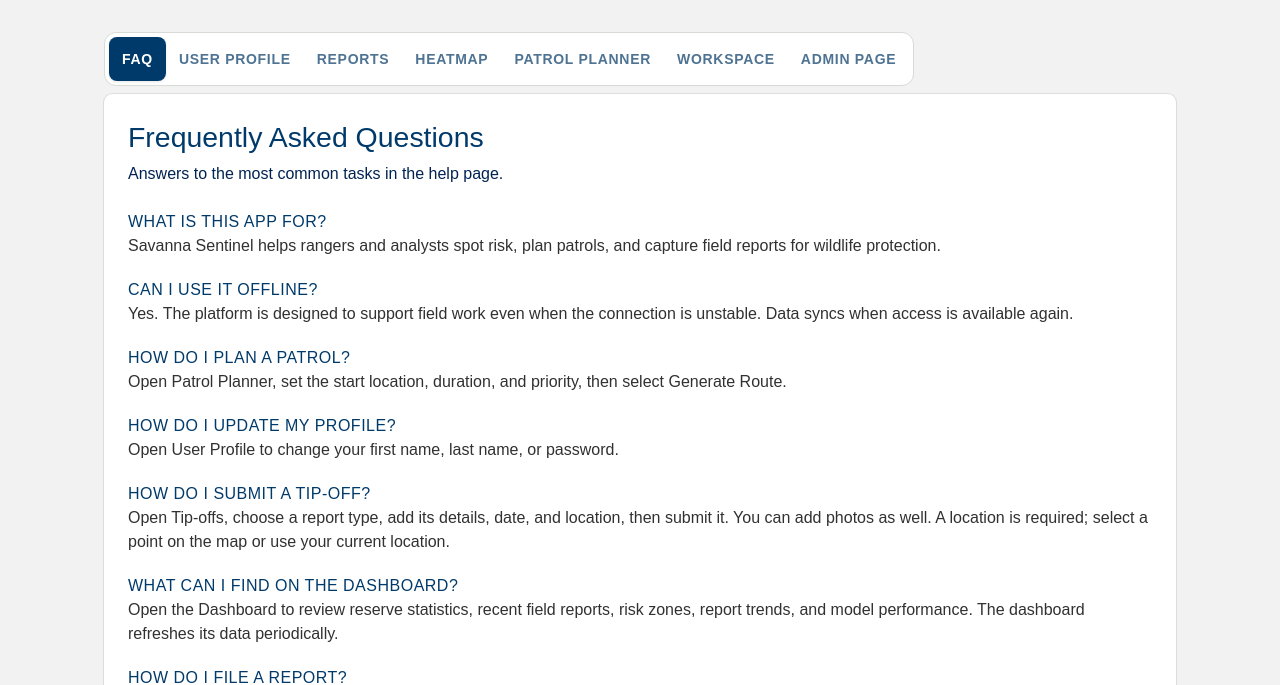
it: HelpPage › opens the relevant help content when tabs are selected
Click the tab "Reports": click(353, 59) [304,37,402,81]
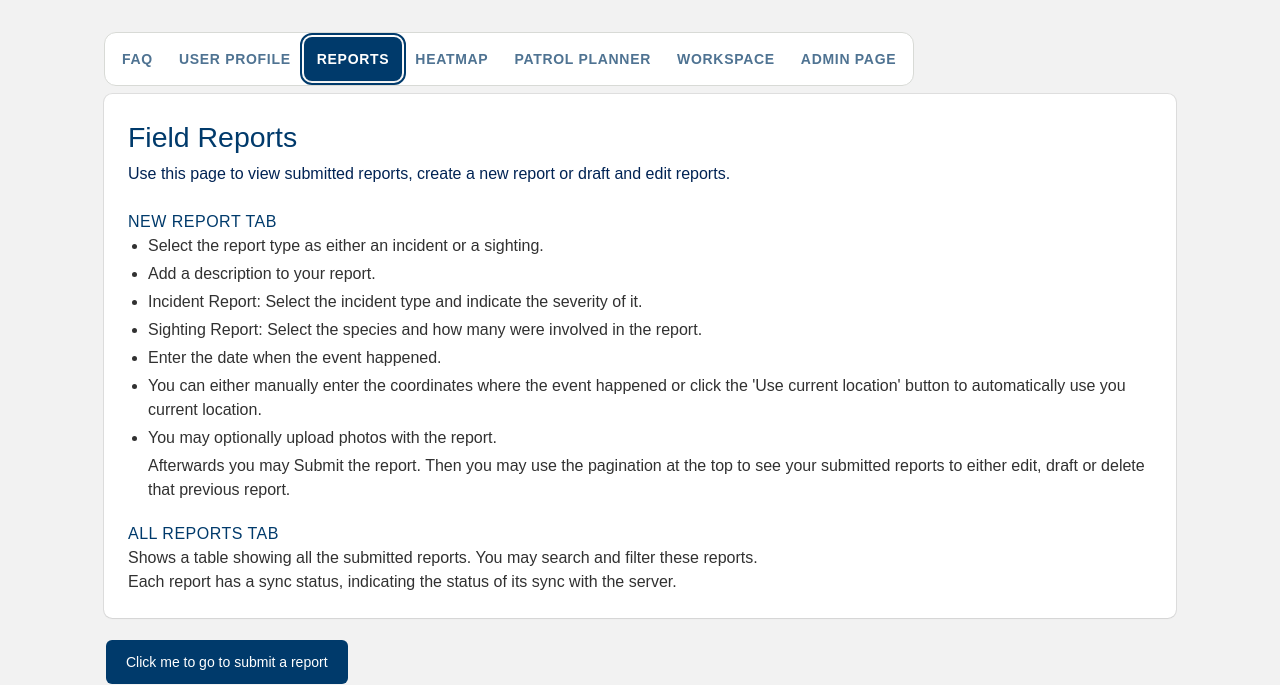
Expected: the text "Field Reports" is shown, [128,121,297,153]
Click the tab "Heatmap": click(452, 59) [402,37,501,81]
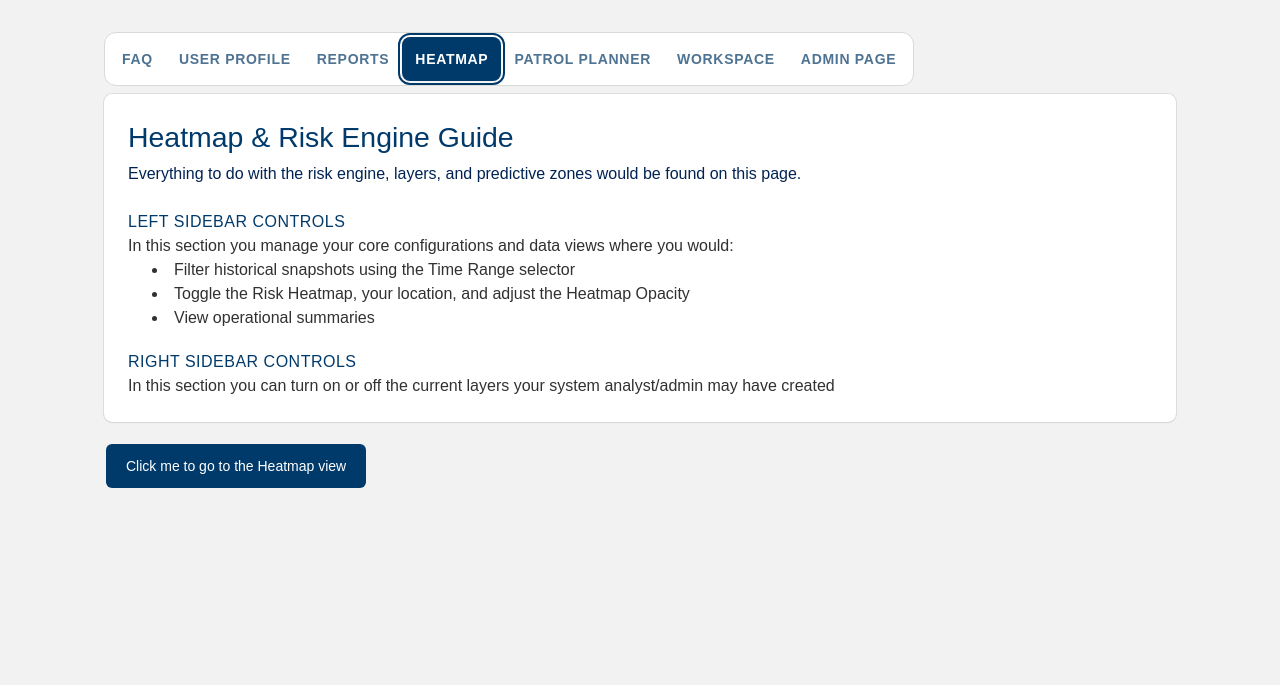
Now the text "Heatmap & Risk Engine Guide" is shown, box [128,121,514,153]
Click the tab "Patrol Planner": click(583, 59) [501,37,664,81]
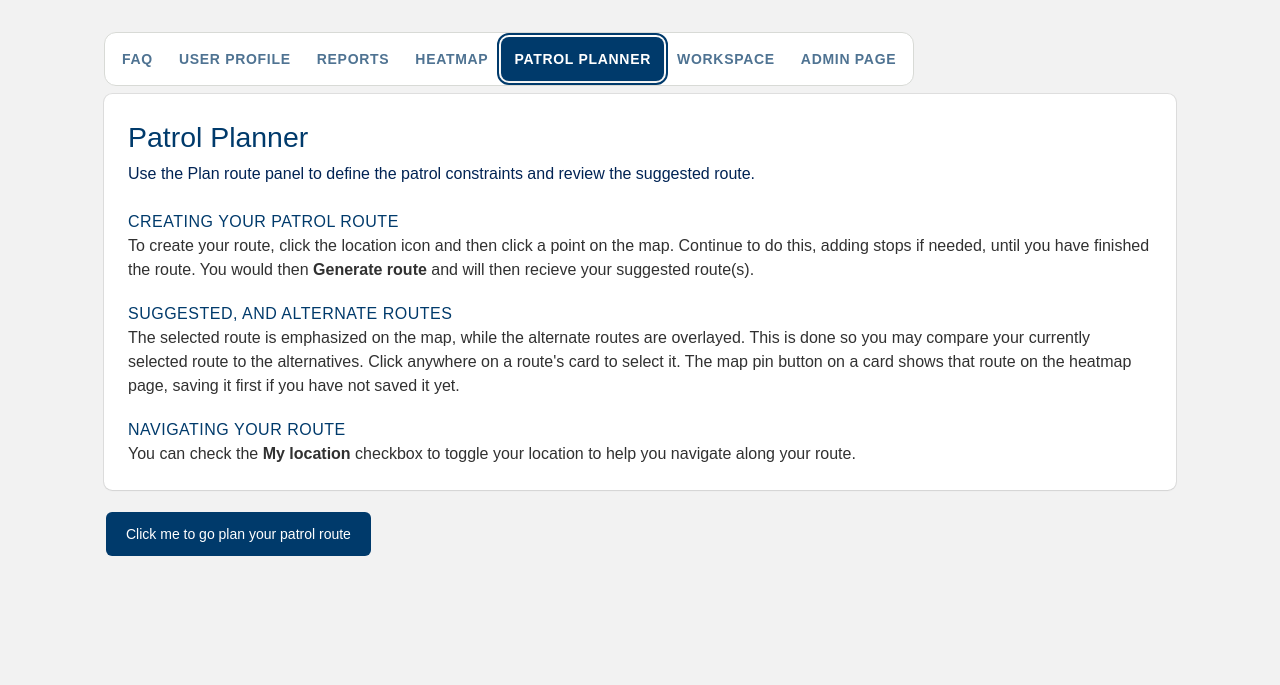
Now the text "Creating your patrol route" is shown, box [128,213,399,230]
Click the tab "Workspace": click(726, 59) [664,37,788,81]
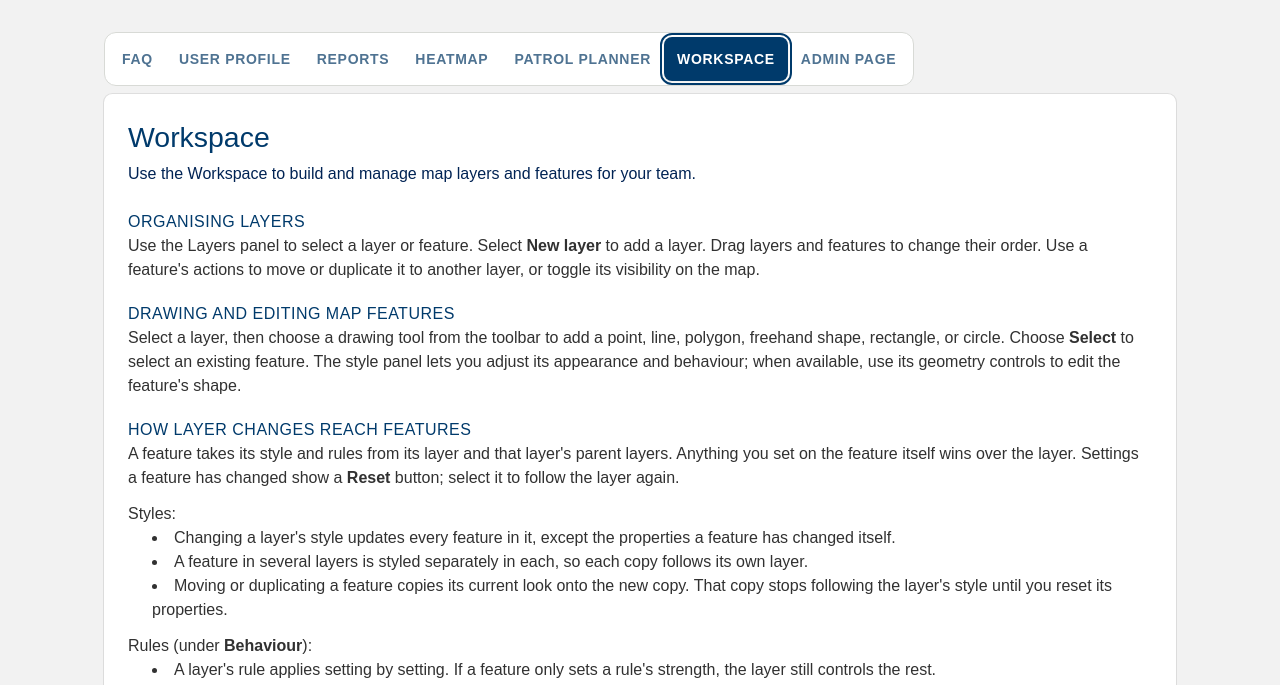
Now the text "Organising layers" is shown, box [128,213,305,230]
Now the text "How layer changes reach features" is shown, box [128,421,472,438]
Click the tab "Admin Page": click(848, 59) [788,37,909,81]
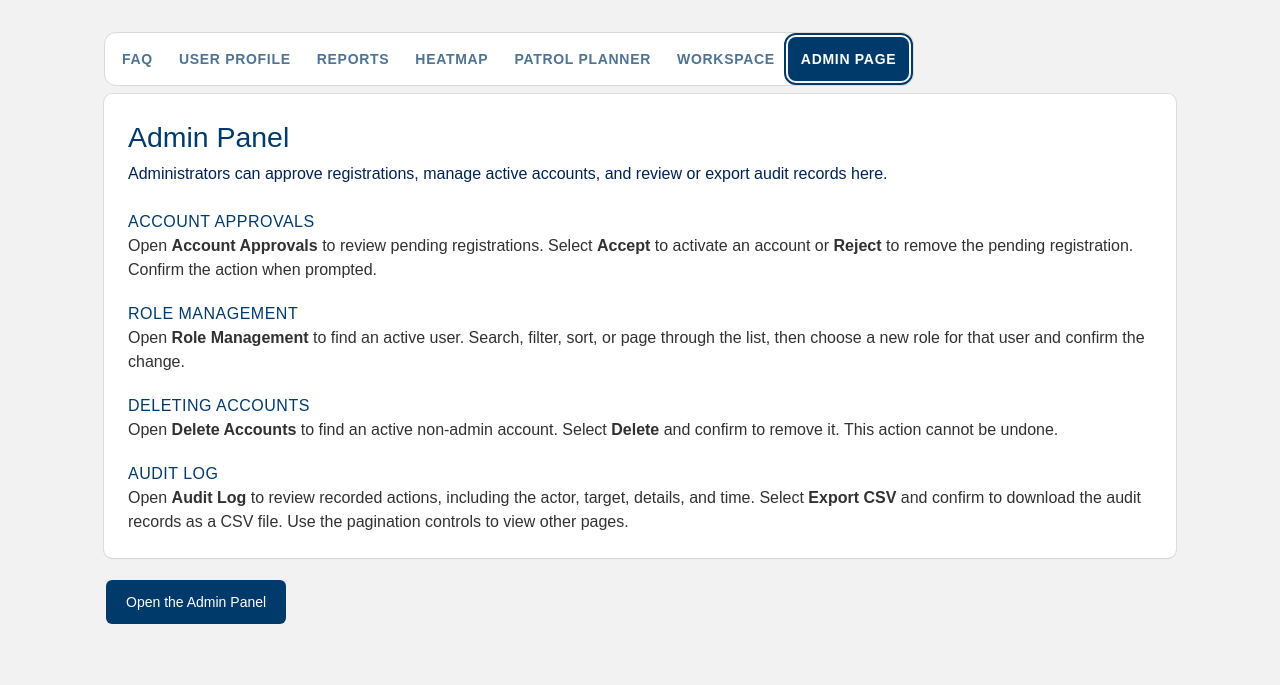
Now the text "Account approvals" is shown, box [128,213,315,230]
Click the tab "User Profile": click(235, 59) [166,37,304,81]
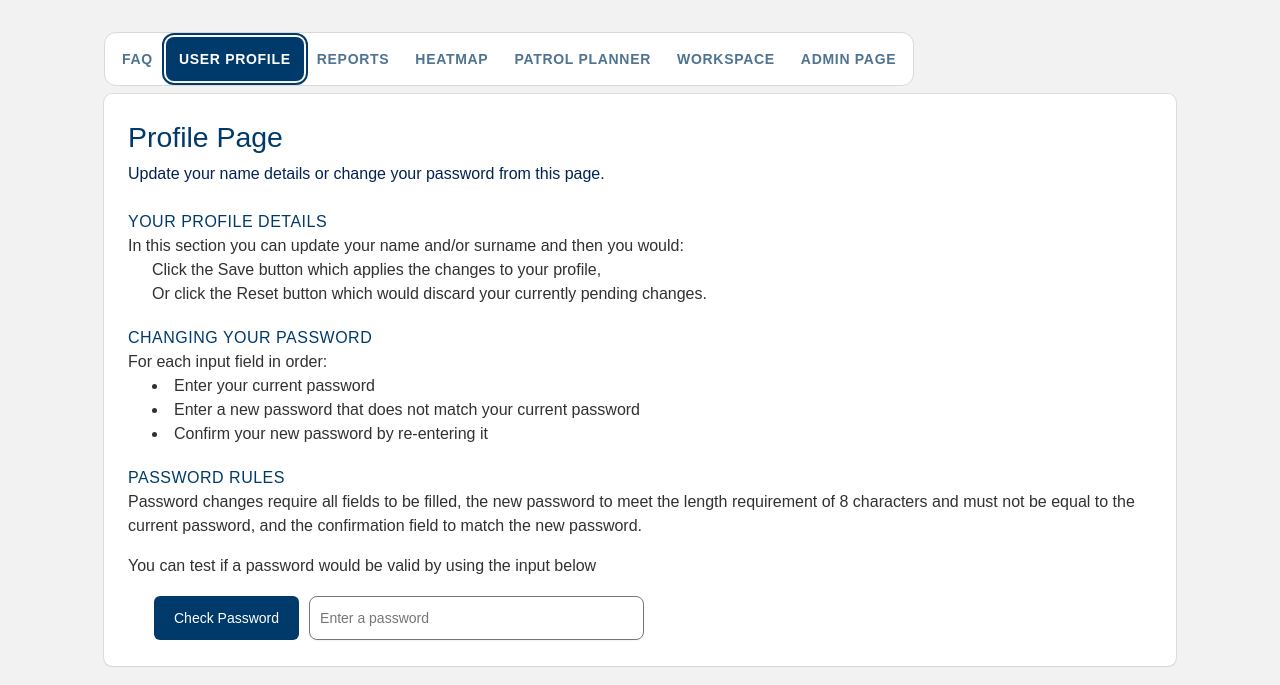
Now the text "Changing your Password" is shown, box [128,329,372,346]
